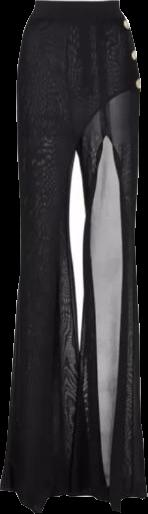Hemline: (72, 132, 147, 513), (0, 485, 70, 513)
Pantleg: (63, 0, 146, 511), (0, 2, 78, 512)
Waistline: (75, 79, 140, 150), (33, 0, 121, 7)
